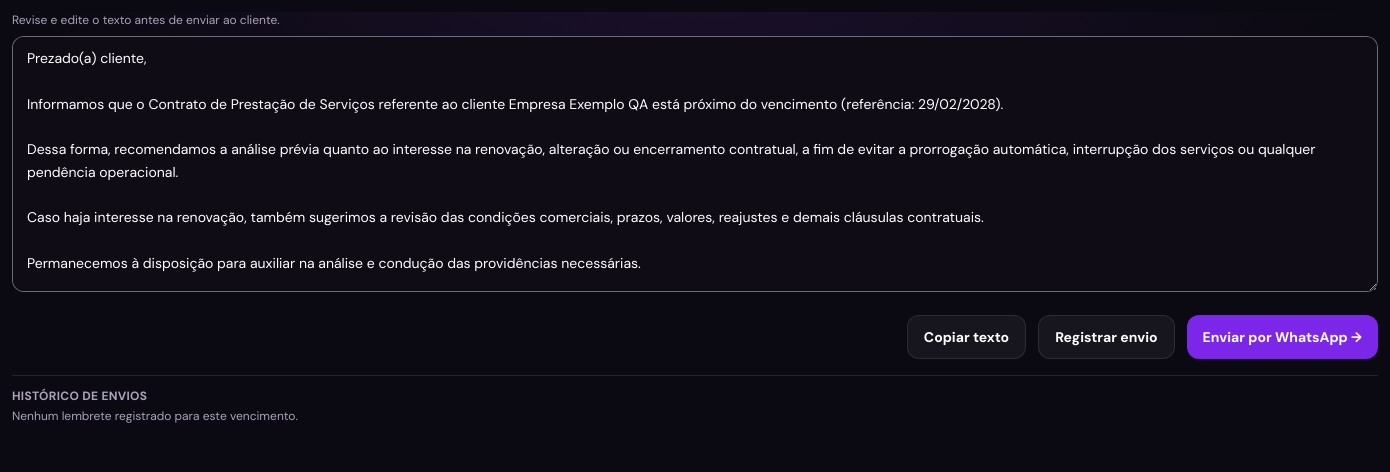
Test case: histórico que falha bloqueia o link externo e conserva o texto sem simular envio
This screenshot has width=1390, height=472.
Replace the text in the text box named "Texto do lembrete" with "Mensagem QA" at (695, 164), box [12,36,1378,292]
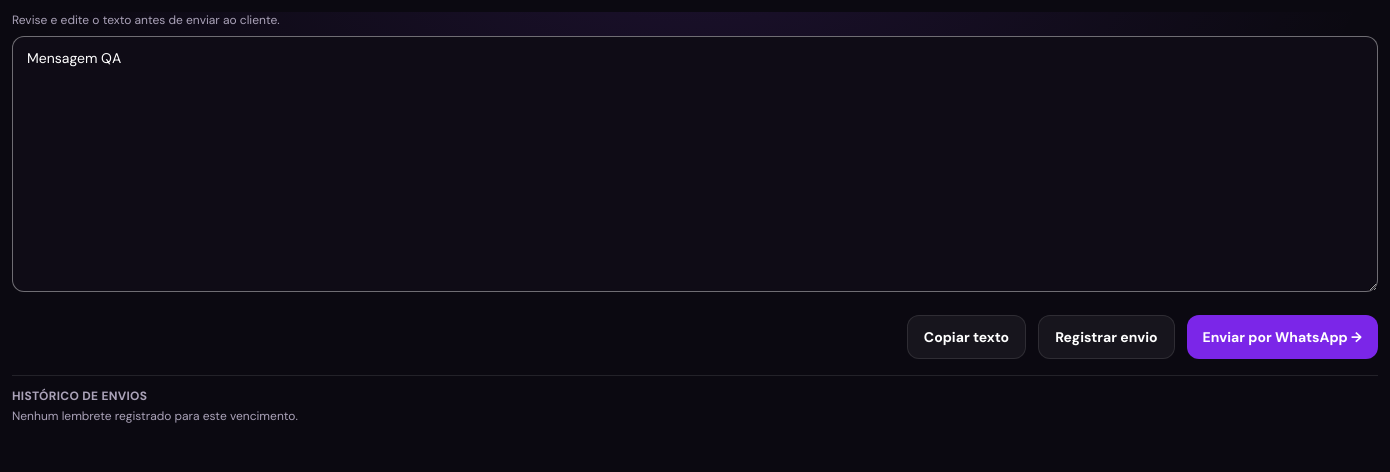
# dispatchEvent retorna false quando o app cancela a navegação externa.
Click the link "Enviar por WhatsApp →" at (1282, 337), box [1186,315,1378,359]
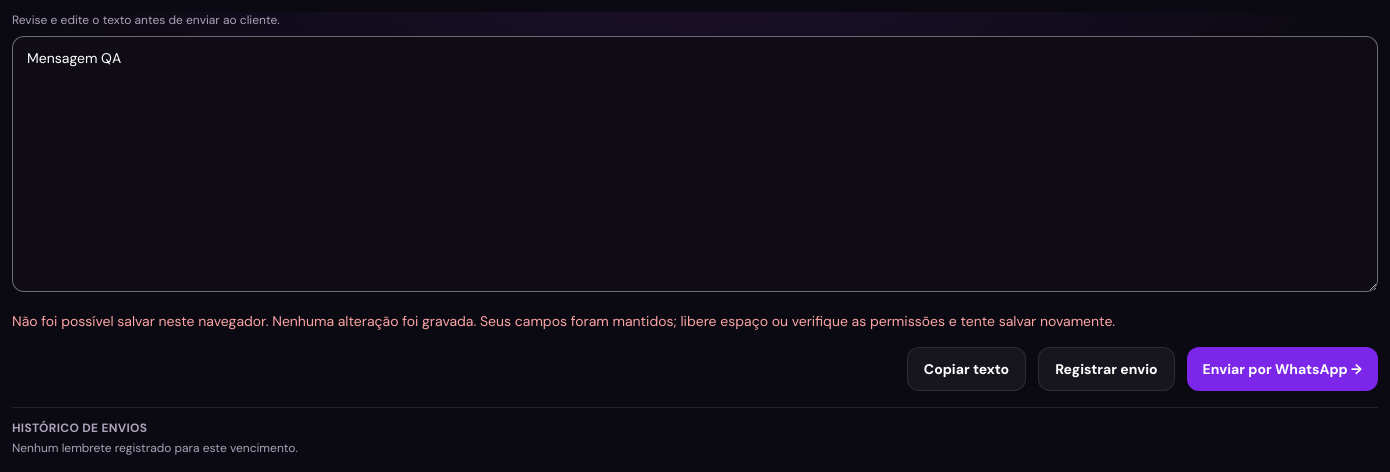
Expected: the message shows "Não foi possível salvar", [12,312,1115,330]
Click the button "Registrar envio" at (1106, 369), box [1038,347,1175,391]
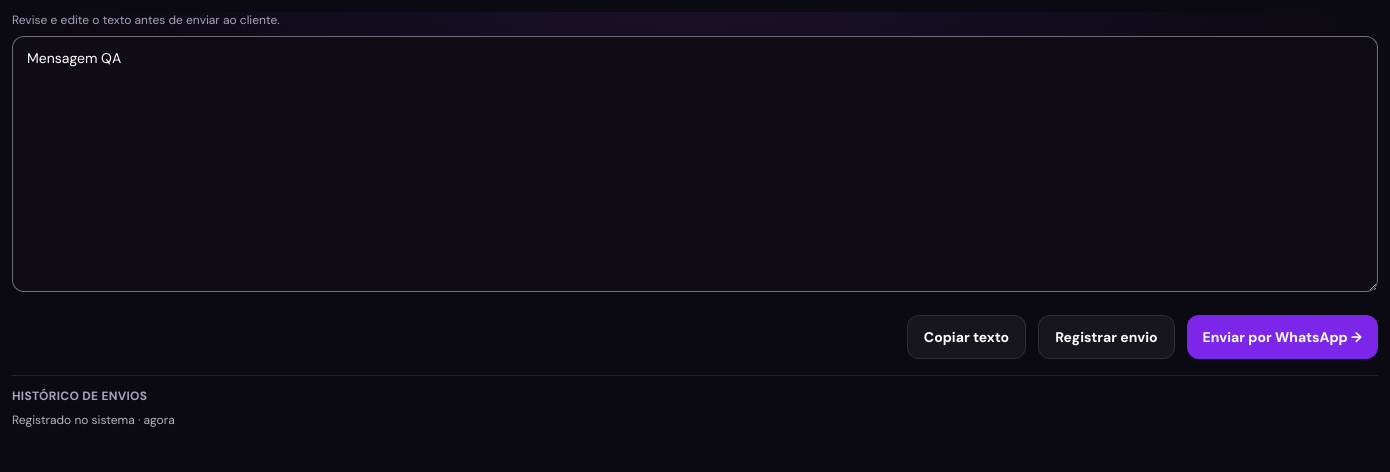
Expected: the message is gone
